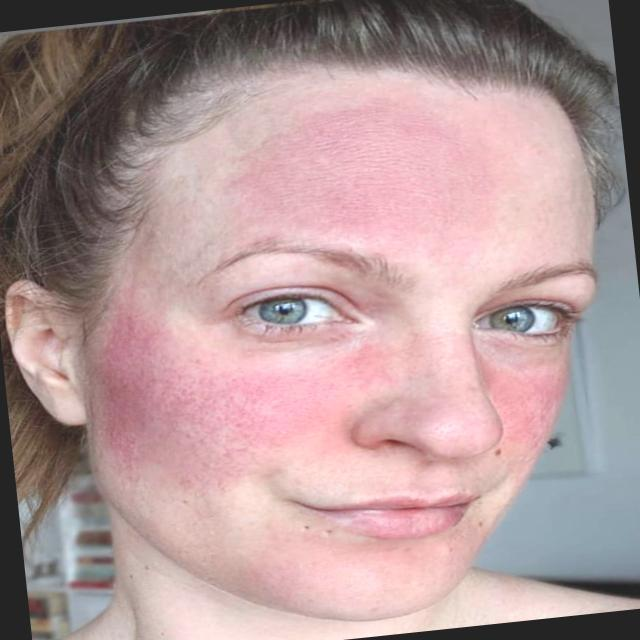skinredness: (246, 80, 518, 266), (88, 302, 296, 511), (478, 349, 574, 481)
